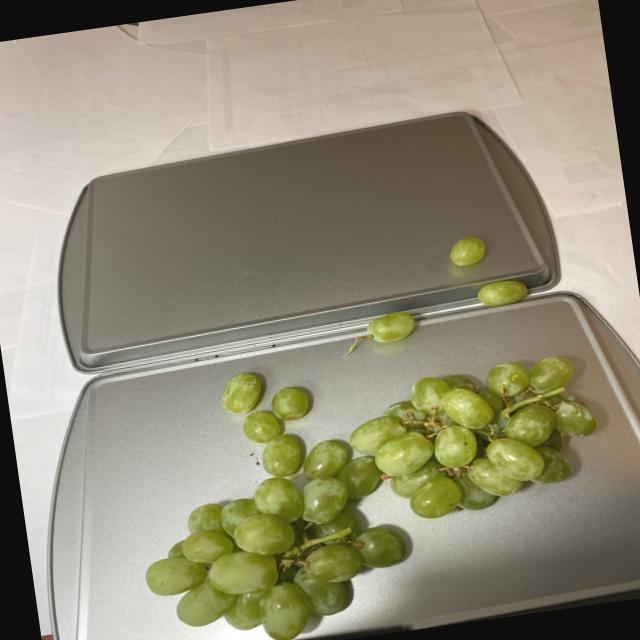grapes: (109, 327, 615, 640), (343, 228, 537, 361)
